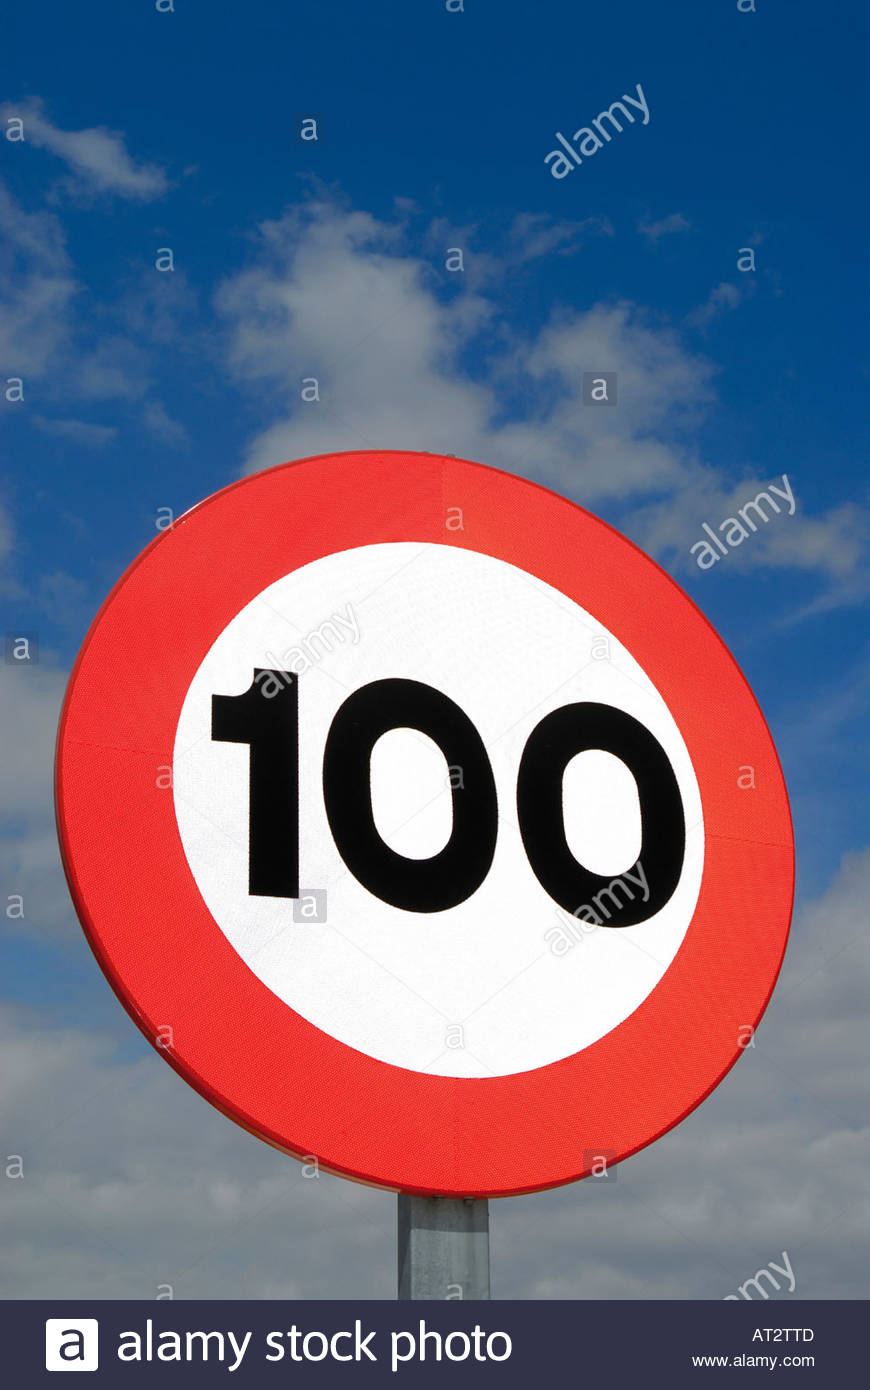Speed_limit_100km: (53, 449, 800, 1200)
